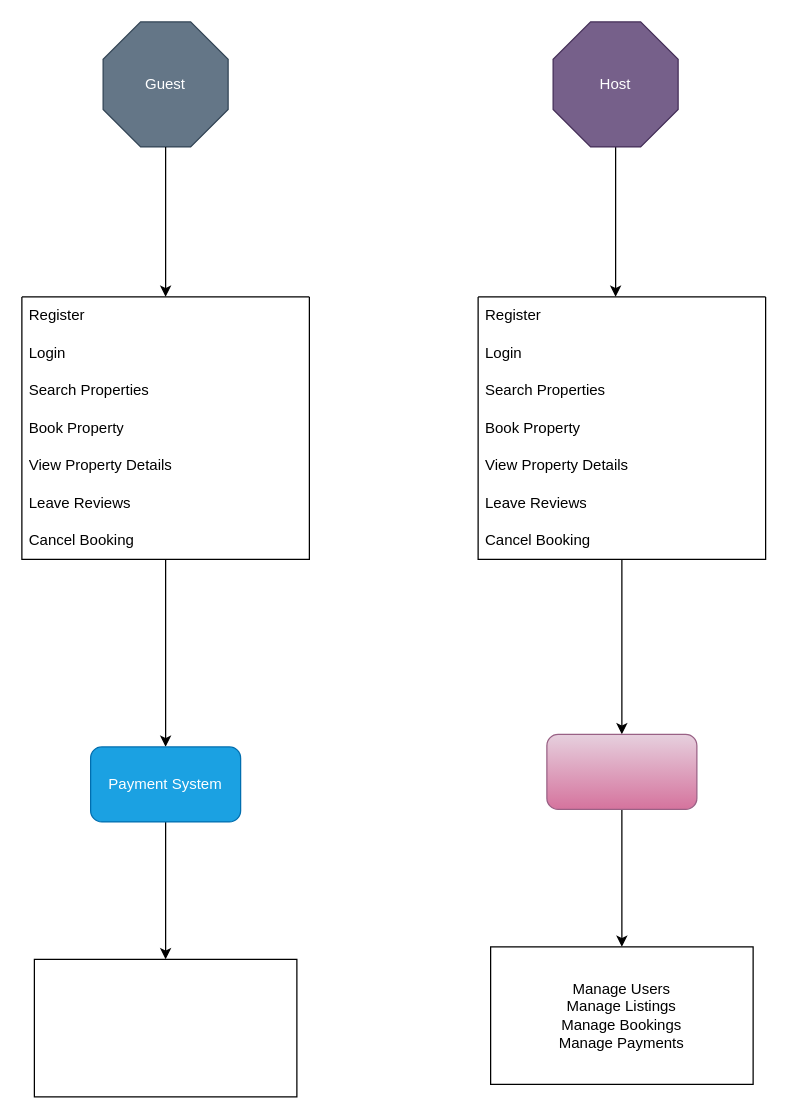
Some shapes in this 788 by 1119 pixel diagram are drawn without their labels. The shapes that lost their labels are listed below. From the top down, each one's box as (x1, y1, x2, y2) in pixels, then its label:
(546, 733, 697, 809): Admin
(33, 958, 297, 1097): Process Payment Process Refunds
